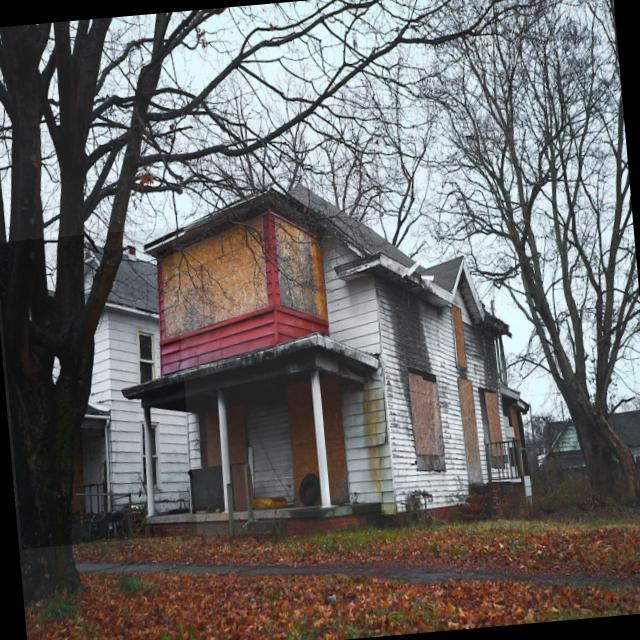House: (0, 227, 197, 549)
